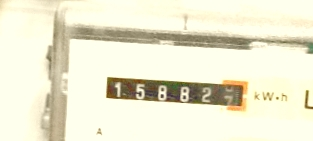1: (112, 80, 123, 98)
2: (200, 85, 212, 103)
5: (133, 81, 146, 99)
7: (222, 93, 234, 107)
8: (156, 83, 168, 101), (179, 85, 190, 102)
screen: (97, 64, 255, 116)
